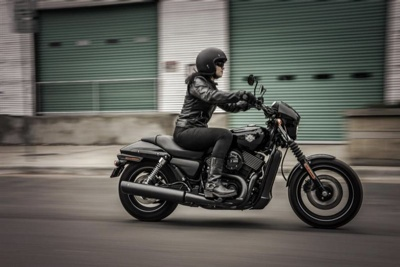helmet: (195, 47, 229, 81)
